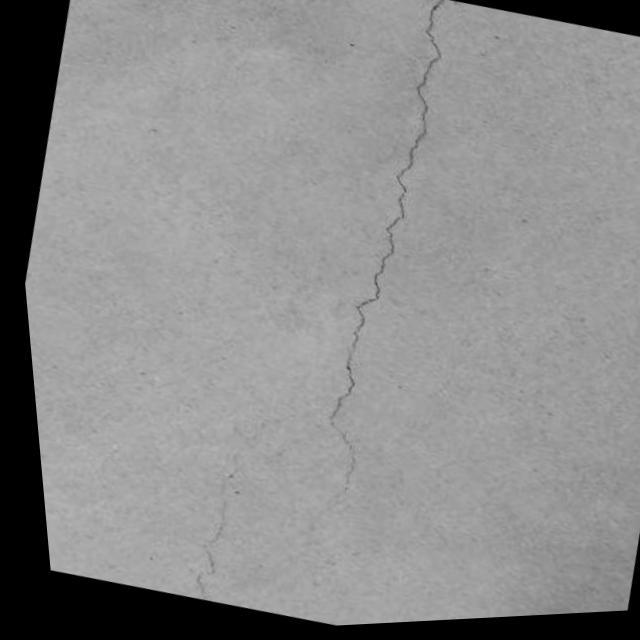Crack: (327, 9, 446, 497), (182, 450, 239, 595)
